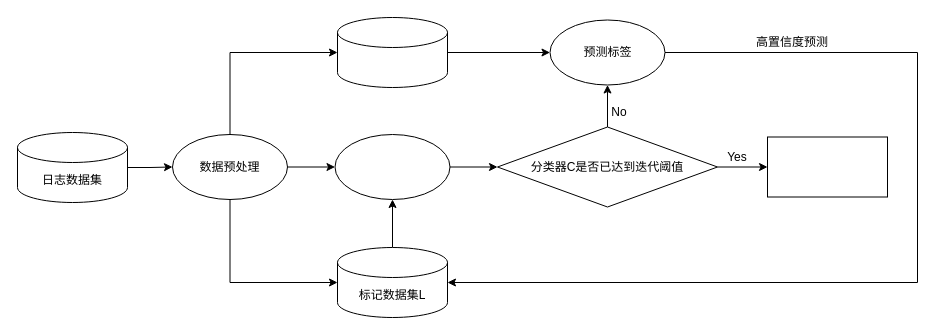
This 943x335 diagram has some shape labels left out. Each missing label, with the centre of its shape:
"最佳分类器" goes at (x=827, y=166).
"未标记数据集U" goes at (x=392, y=52).
"训练分类器C" goes at (x=392, y=167).
